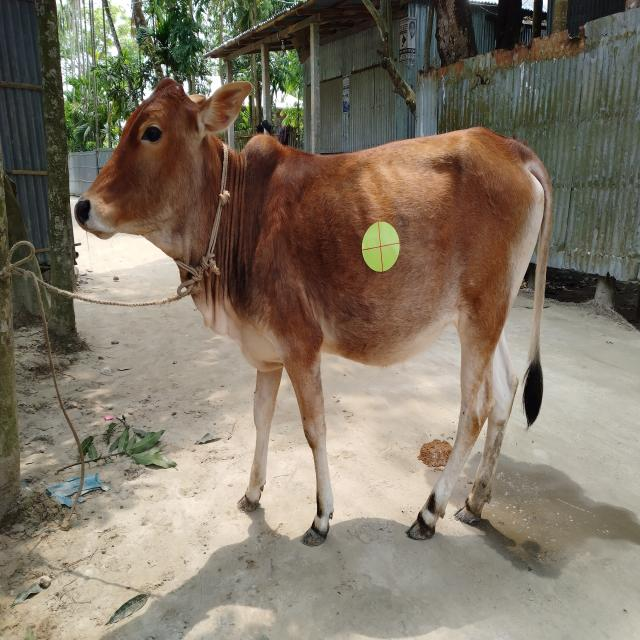badan_sapi: (245, 151, 548, 366)
sapi: (68, 62, 564, 550)
